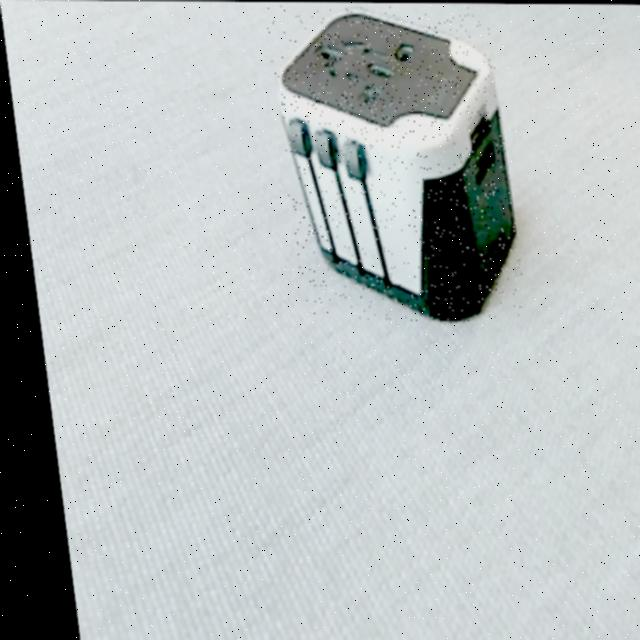adapter: (264, 6, 520, 321)
